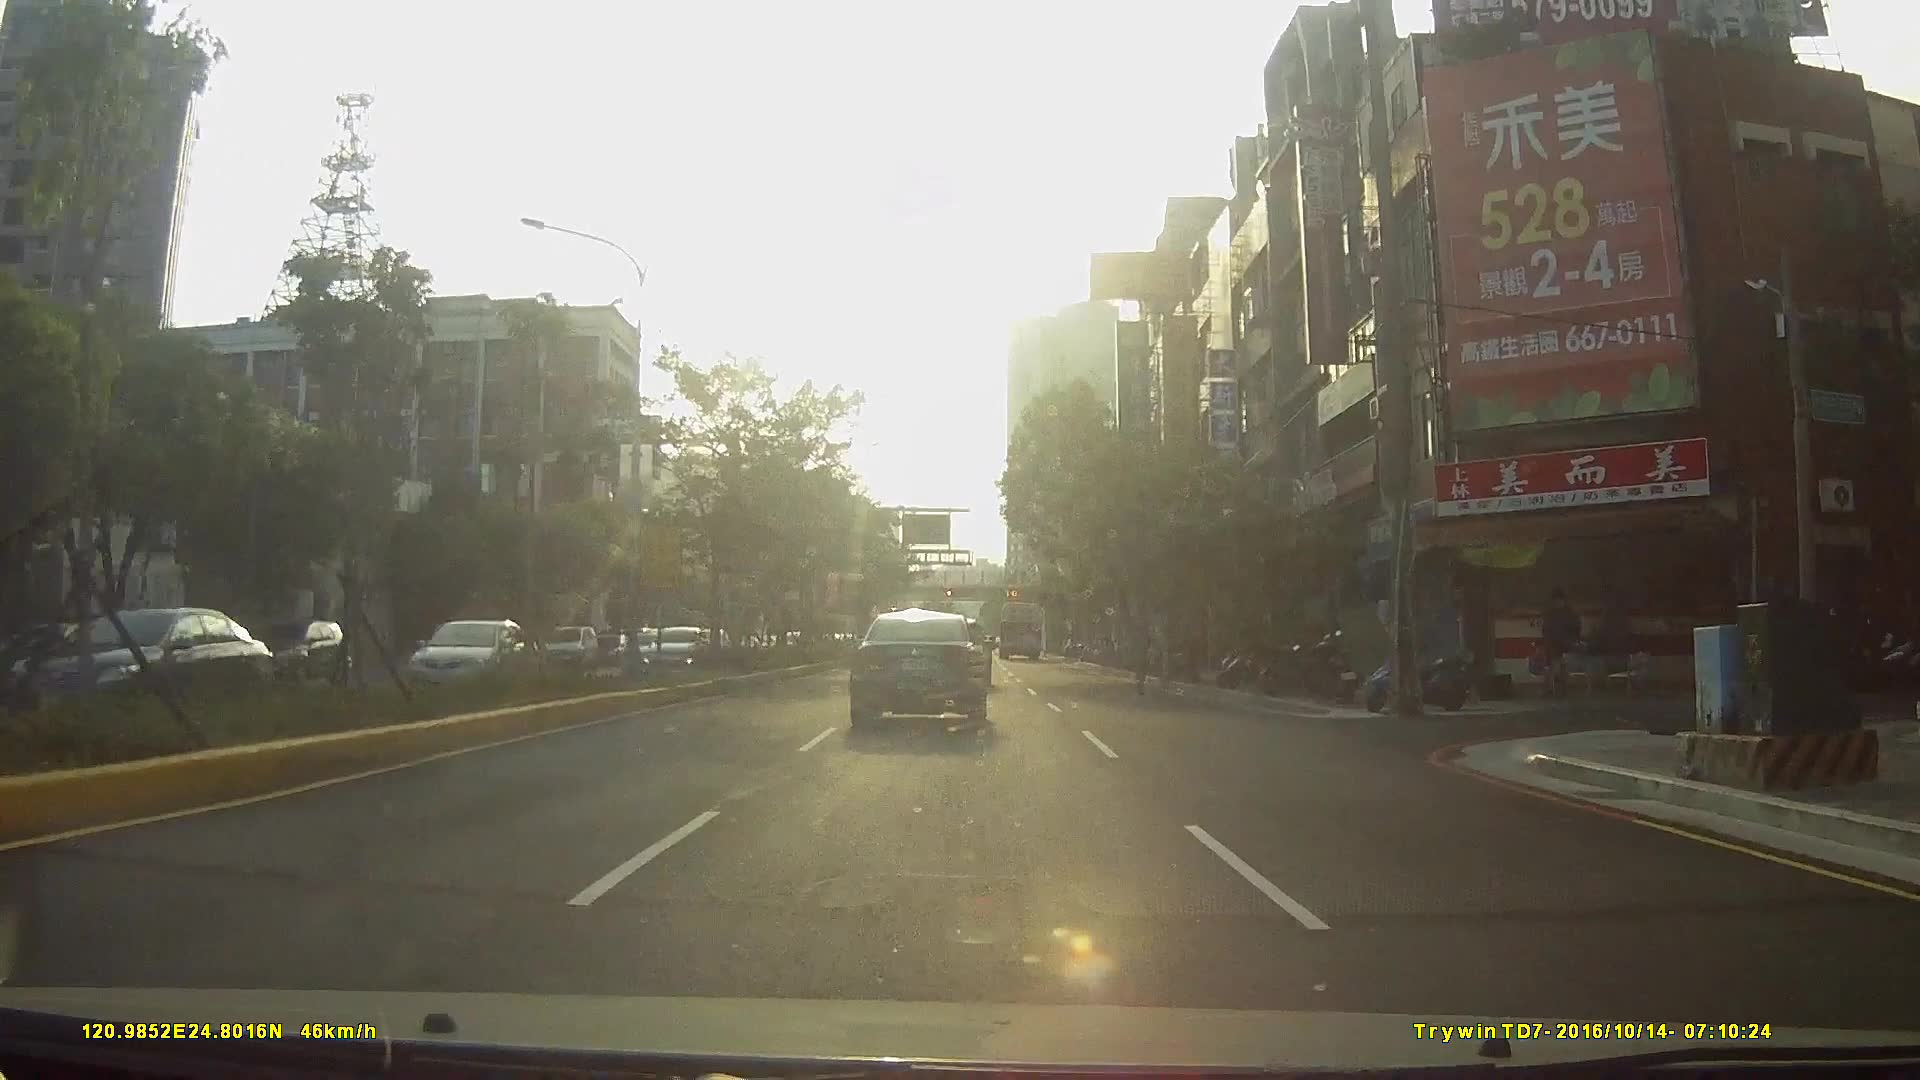pedestrian: (1128, 611, 1164, 691)
vehicle: (12, 604, 277, 758), (847, 607, 990, 731), (393, 604, 537, 718), (7, 619, 130, 703), (239, 618, 346, 689), (625, 623, 716, 672), (997, 597, 1043, 658), (542, 621, 596, 666)
